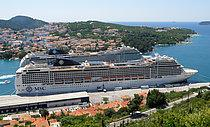Ship: (15, 54, 200, 96)
